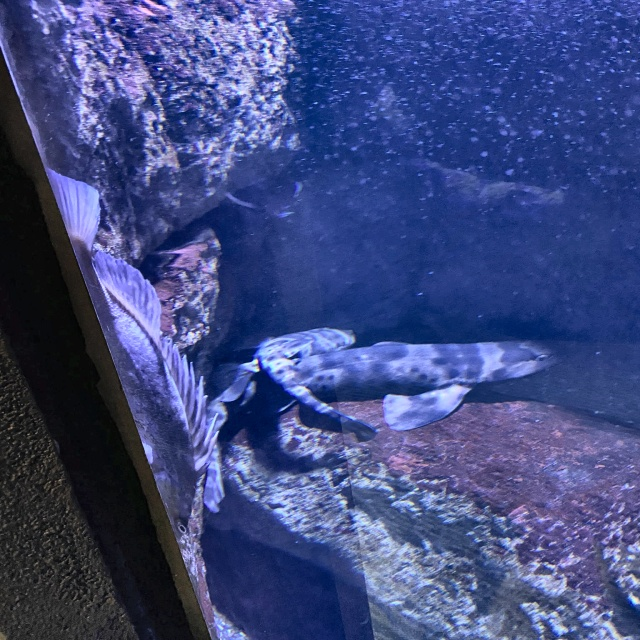fish: (43, 171, 216, 529)
shark: (257, 341, 560, 438), (201, 328, 355, 512)
